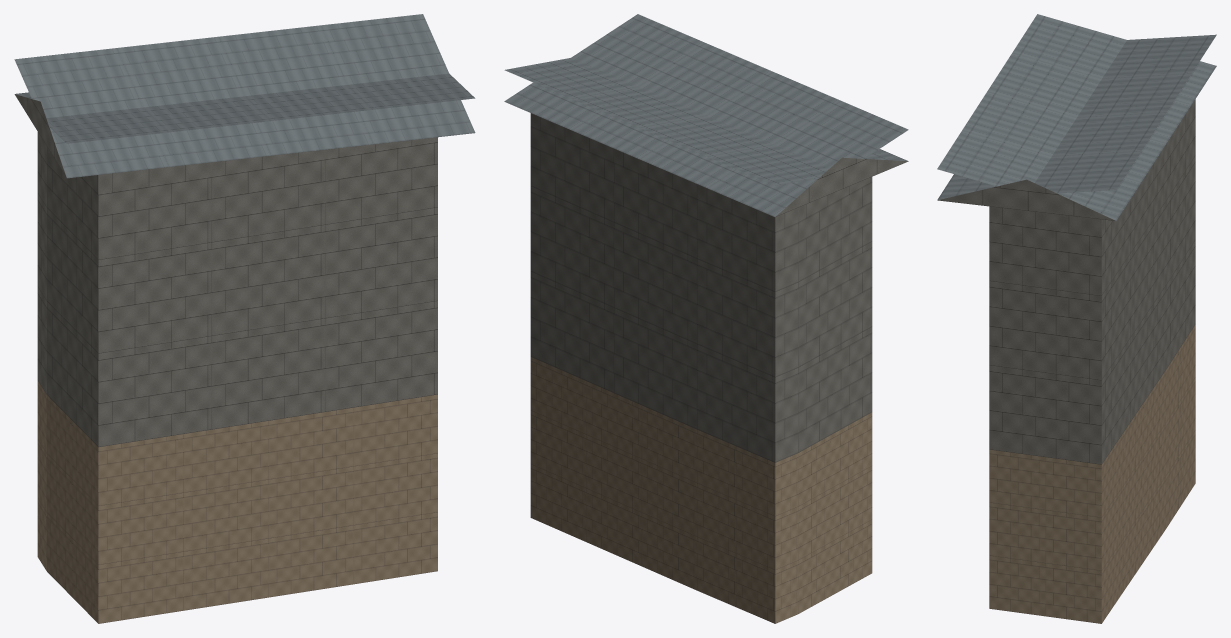
Rendered from bld_c31_-40_467.gltf.
3 views of the same model, side by side, from view 1: azimuth 30°, elevation 25°; view 2: azimuth 150°, elevation 25°; view 3: azimuth 270°, elevation 25° (orthographic). The views are drawn at different scales.
Parts seen in each view (by area): view 1: bld_c31_-40_467; view 2: bld_c31_-40_467; view 3: bld_c31_-40_467.
Boxes of the visible parts, x1=… form: bld_c31_-40_467: x1=14, y1=14, x2=475, y2=623; bld_c31_-40_467: x1=504, y1=14, x2=908, y2=623; bld_c31_-40_467: x1=937, y1=14, x2=1216, y2=623.
Size of the model in its own units: 12.09 by 14.2 by 8.13.
4 materials, 4 textured.
